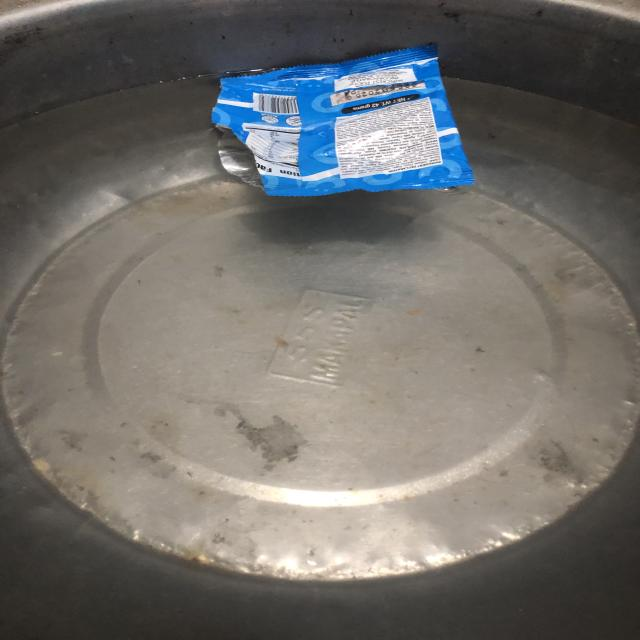Plastic Wrapper: (178, 37, 512, 225)
